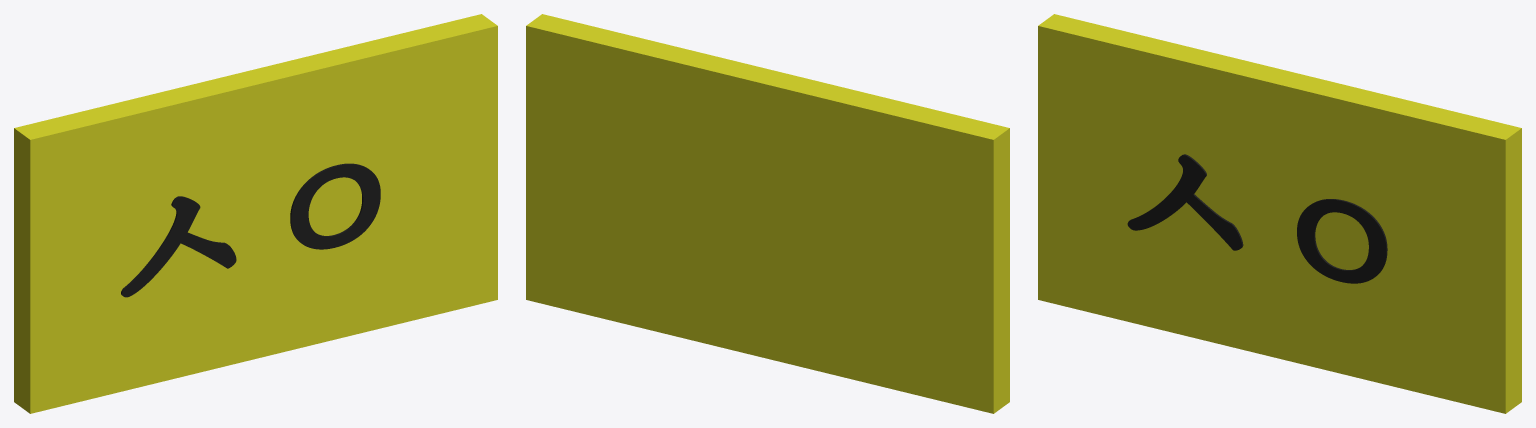
3 views of the same model, side by side, from view 1: azimuth 30°, elevation 25°; view 2: azimuth 150°, elevation 25°; view 3: azimuth 330°, elevation 25° (orthographic).
Visible parts, largest first — view 1: Cube.011; view 2: Cube.011; view 3: Cube.011.
Boxes of the visible parts, x1,y1,x2,y2 form: Cube.011: (14, 14, 497, 413); Cube.011: (526, 14, 1009, 413); Cube.011: (1038, 14, 1521, 413).
Size of the model in its own units: 10 by 5.6 by 0.64.
